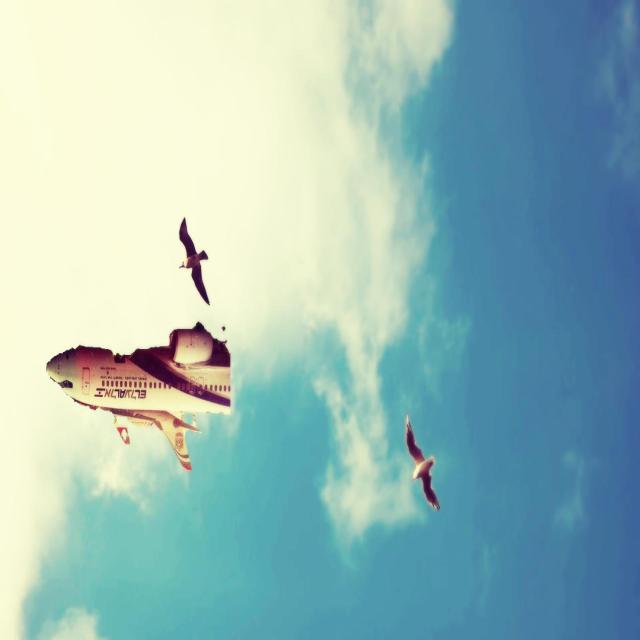airplane: (45, 320, 231, 471)
